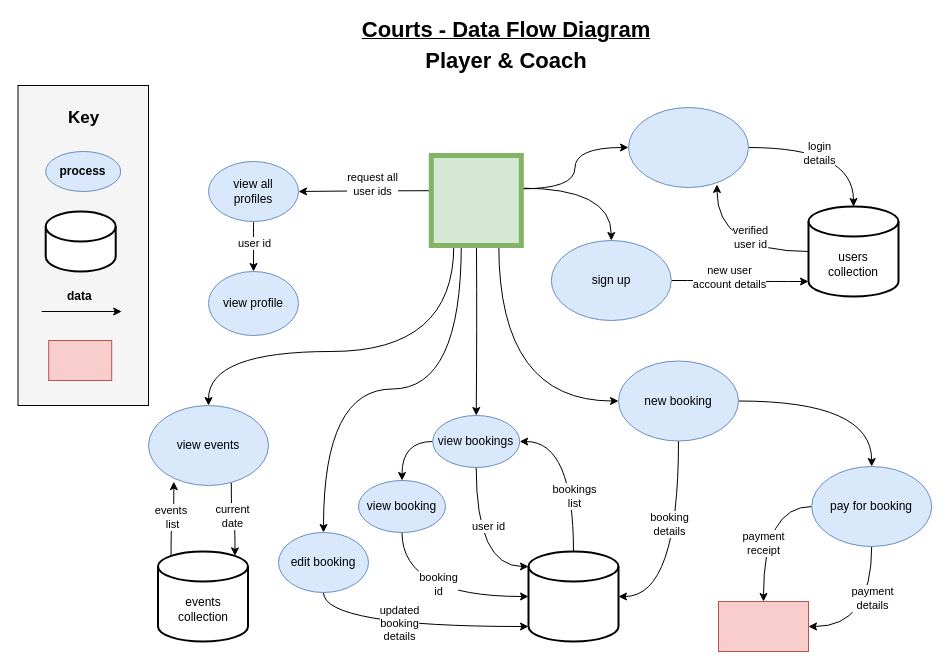
The diagram is 949 pixels wide and 669 high, and some of its shapes have lost their labels. The shapes that lost their labels are listed below. From the top down, each one's box as (x1, y1, x2, y2) in pixels, then its label:
(628, 106, 748, 188): Login
(428, 152, 523, 248): User
(44, 210, 116, 272): collection
(48, 340, 112, 380): external system
(527, 550, 619, 642): bookings collection
(718, 600, 808, 652): Bank
